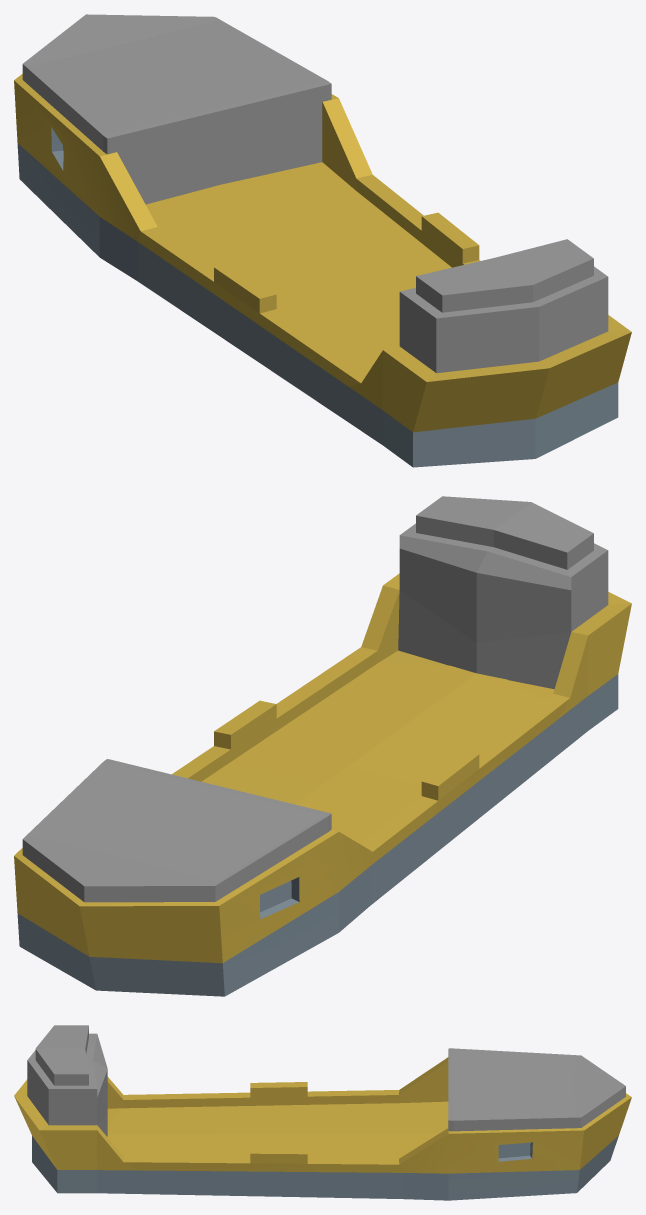
The model's file is freighter_var1_model.fbx.
The picture shows the model from 3 angles, top to bottom: view 1: azimuth 30°, elevation 25°; view 2: azimuth 150°, elevation 25°; view 3: azimuth 270°, elevation 25°; orthographic projection. The views are drawn at different scales.
Parts seen in each view (by area): view 1: polySurface7; view 2: polySurface7; view 3: polySurface7.
Boxes of the visible parts, x1=… form: polySurface7: x1=14, y1=14, x2=631, y2=467; polySurface7: x1=14, y1=496, x2=631, y2=996; polySurface7: x1=14, y1=1025, x2=631, y2=1200.
Size of the model in its own units: 7.13 by 4.91 by 24.16.
1 material, 1 textured.
